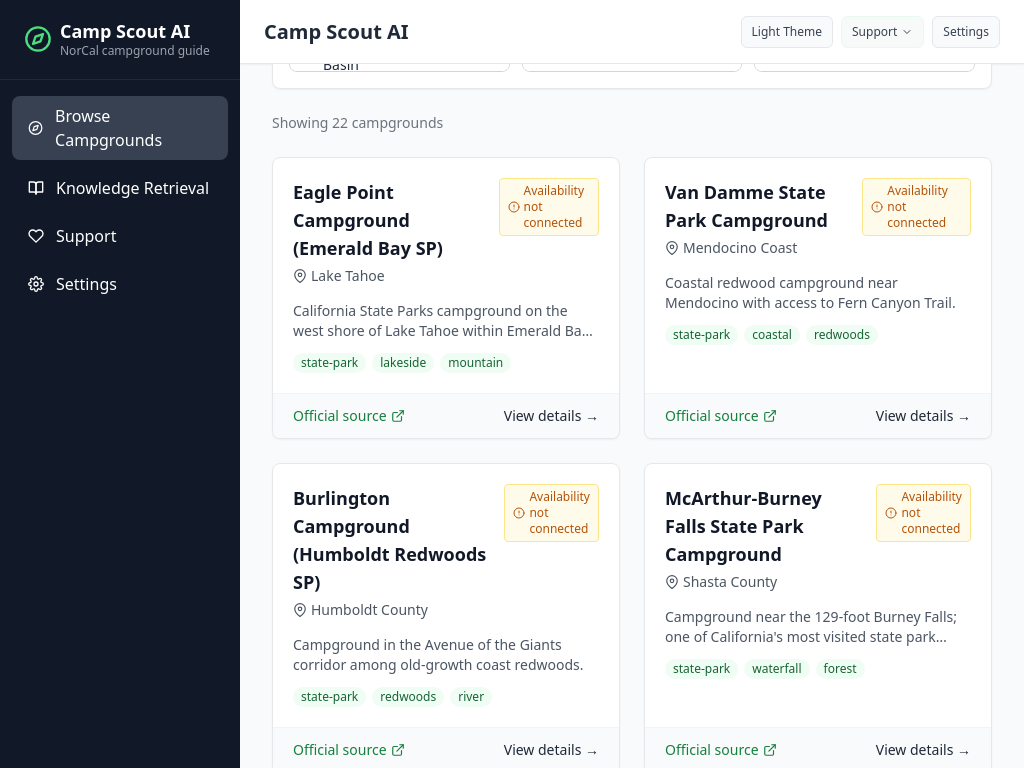
Scenario: Campgrounds Page › navigates to detail page with source links
(page scrolled)
Click the link "View details →" below "lakeside" at (552, 416), box [504,406,599,426]
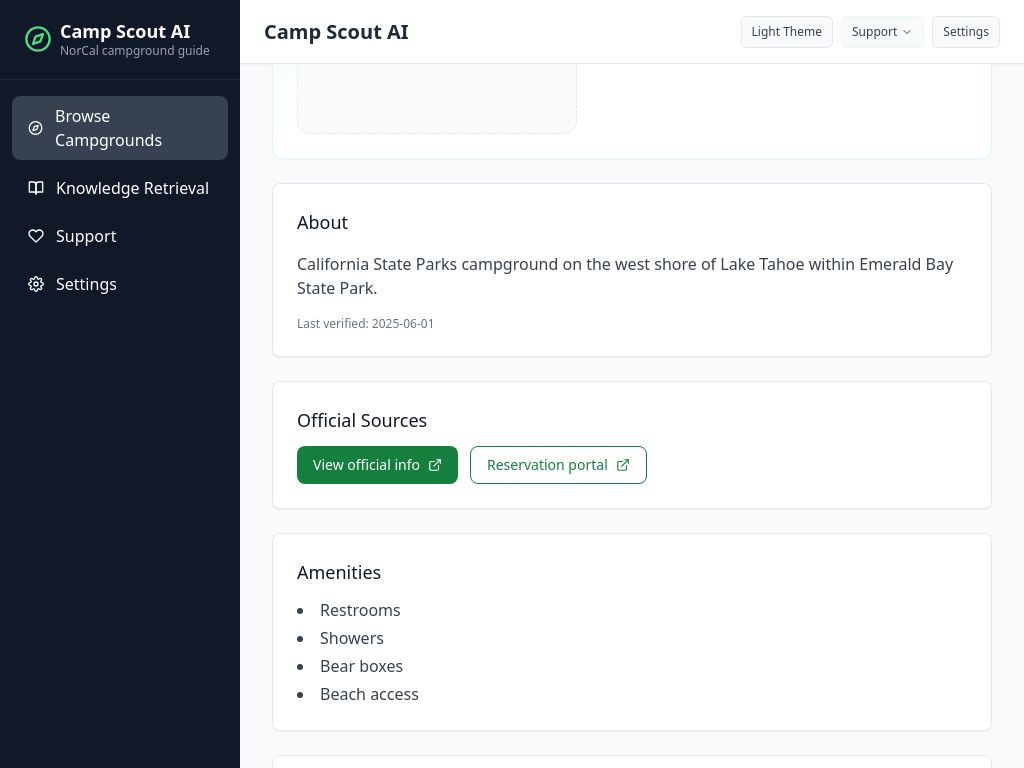
Expected: the link "View official info" is shown, [297,446,458,484]
Expected: the link "Reservation portal" is shown, [470,446,647,484]
